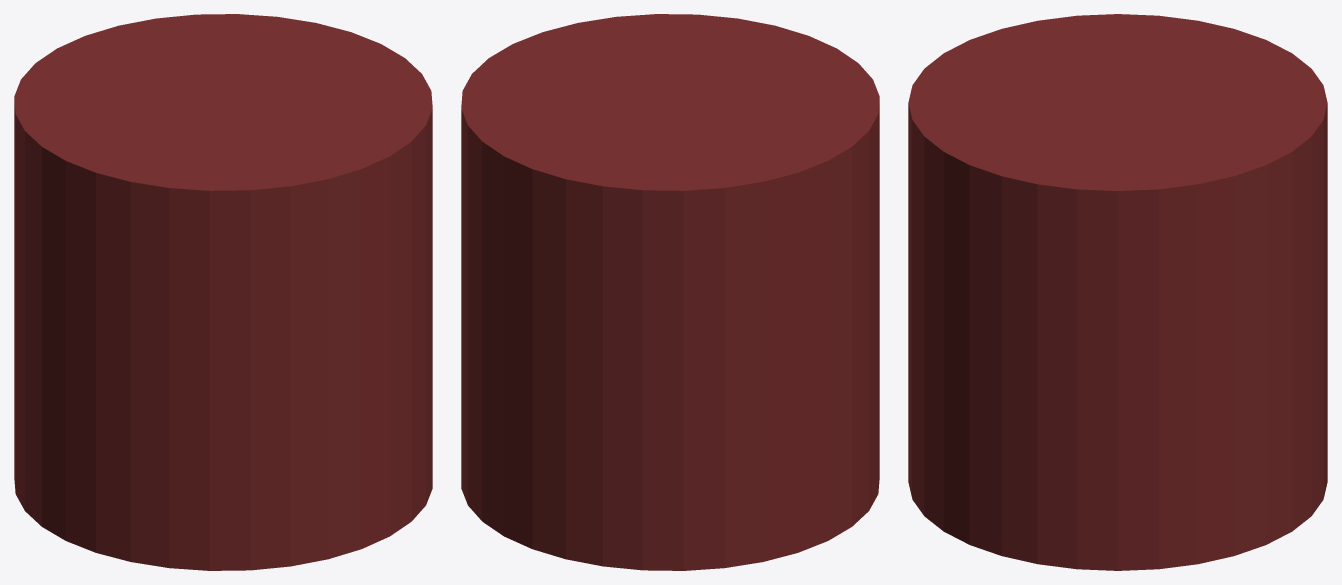
Rendered from CoffeeBean2.dae.
3 views of the same model, side by side, from view 1: azimuth 30°, elevation 25°; view 2: azimuth 150°, elevation 25°; view 3: azimuth 270°, elevation 25° (orthographic).
Parts seen in each view (by area): view 1: Cylinder; view 2: Cylinder; view 3: Cylinder.
Boxes of the visible parts, <box> form: Cylinder: <box>14,14,432,570</box>; Cylinder: <box>461,14,879,570</box>; Cylinder: <box>908,14,1327,570</box>.
Bounding box in the file's own units: 0.2 × 0.2 × 0.2.
